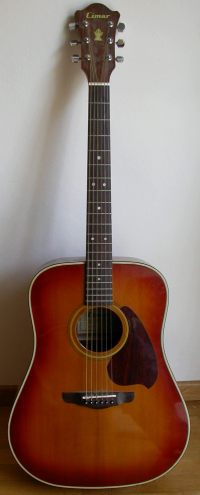guitar: (6, 3, 192, 491)
